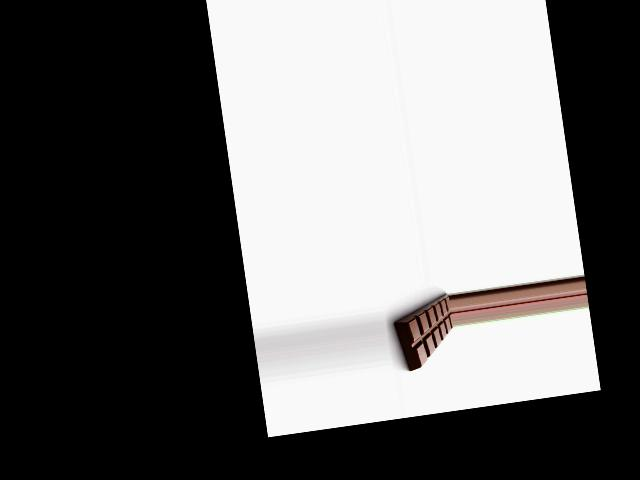chocolate: (388, 289, 458, 373)
